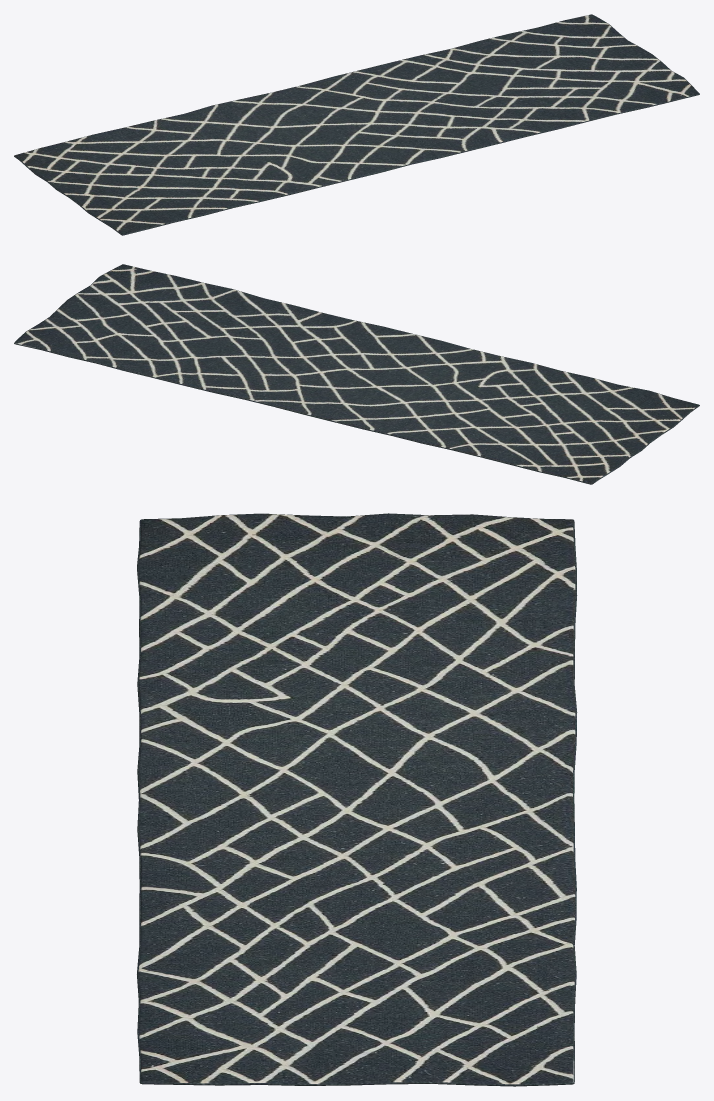
Rendered from B07HSLYW92.glb.
3 renders of one model, top to bottom at view 1: azimuth 30°, elevation 25°; view 2: azimuth 150°, elevation 25°; view 3: azimuth 270°, elevation 25°, orthographic. The views are drawn at different scales.
Parts seen in each view (by area): view 1: RootNode; view 2: RootNode; view 3: RootNode.
Part boxes in pixels (left/top/right/bottom): RootNode: left=14, top=14, right=699, bottom=235; RootNode: left=14, top=264, right=699, bottom=484; RootNode: left=137, top=513, right=577, bottom=1086.
Size of the model in its own units: 2.48 by 0.00967 by 0.8066.
1 material, 1 textured.
